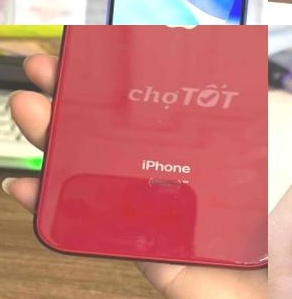scratch: (231, 250, 268, 270)
